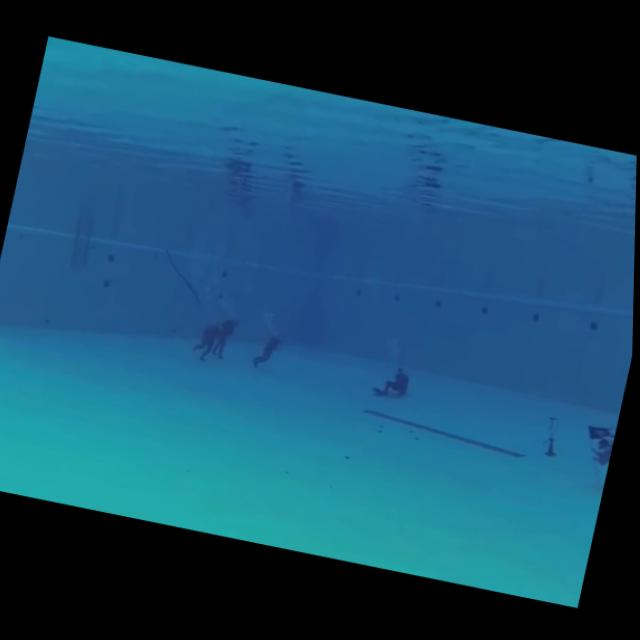human: (573, 414, 620, 491), (372, 353, 421, 405), (205, 306, 244, 367), (187, 308, 224, 367), (249, 323, 290, 374)
